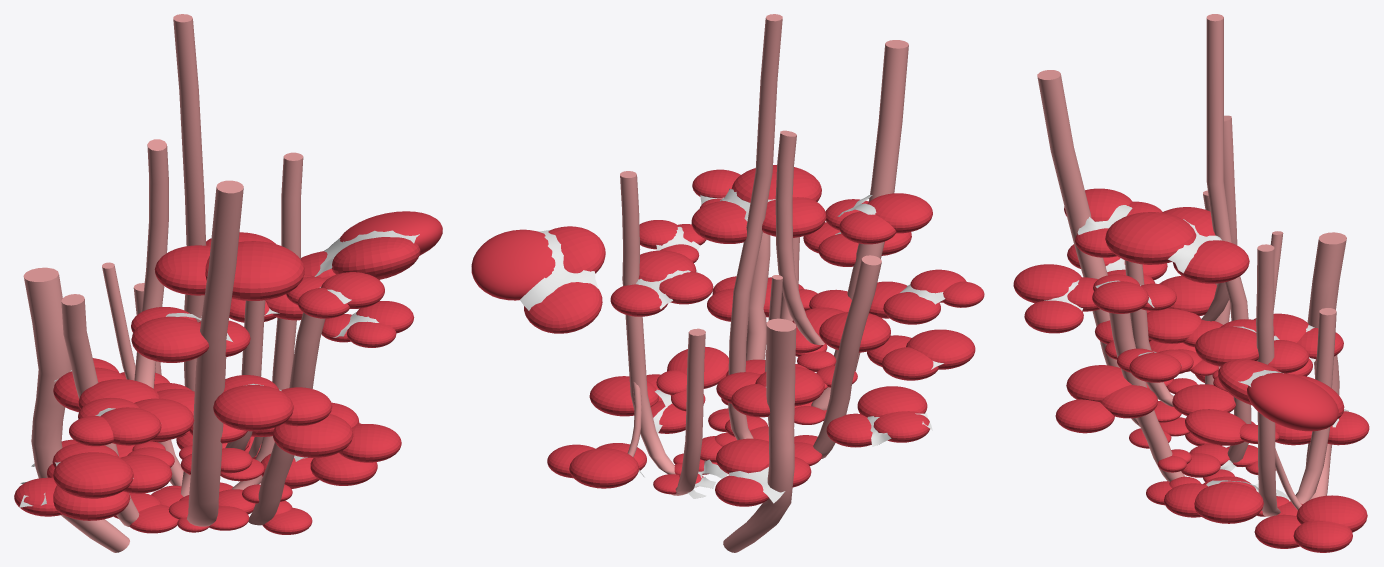
The model's file is 碰撞盒.FBX.
The picture shows the model from 3 angles, left to right: view 1: azimuth 30°, elevation 25°; view 2: azimuth 150°, elevation 25°; view 3: azimuth 270°, elevation 25°; orthographic projection. The views are drawn at different scales.
Visible parts, largest first — view 1: Sphere__24_, Cylinder003, Cylinder001, Cylinder005, Cylinder007, Cylinder010, Cylinder008, Cylinder002, Plane001, Cylinder011, Cylinder009, Cylinder006; view 2: Sphere__24_, Cylinder005, Cylinder001, Plane001, Cylinder003, Cylinder007, Cylinder002, Cylinder010, Cylinder006, Cylinder008; view 3: Sphere__24_, Cylinder005, Cylinder003, Cylinder007, Cylinder001, Cylinder006, Plane001, Cylinder008, Cylinder010, Cylinder011, Cylinder012, Cylinder009.
Boxes of the visible parts, x1,y1,x2,y2 form: Sphere__24_: [14, 211, 442, 534]; Cylinder003: [187, 180, 243, 526]; Cylinder001: [23, 267, 129, 552]; Cylinder005: [173, 14, 206, 496]; Cylinder007: [232, 152, 303, 489]; Cylinder010: [134, 139, 168, 388]; Cylinder008: [248, 312, 325, 525]; Cylinder002: [61, 294, 139, 526]; Plane001: [19, 230, 419, 507]; Cylinder011: [225, 300, 265, 450]; Cylinder009: [102, 262, 135, 380]; Cylinder006: [133, 283, 183, 486]; Sphere__24_: [471, 165, 984, 506]; Cylinder005: [728, 14, 782, 439]; Cylinder001: [723, 318, 796, 552]; Plane001: [520, 188, 945, 503]; Cylinder003: [811, 40, 908, 410]; Cylinder007: [620, 171, 675, 474]; Cylinder002: [813, 255, 881, 458]; Cylinder010: [775, 130, 824, 345]; Cylinder006: [671, 328, 705, 495]; Cylinder008: [746, 232, 770, 360]; Sphere__24_: [1013, 188, 1369, 552]; Cylinder005: [1206, 14, 1251, 462]; Cylinder003: [1037, 70, 1139, 426]; Cylinder007: [1256, 244, 1280, 516]; Cylinder001: [1305, 232, 1346, 499]; Cylinder006: [1290, 308, 1336, 503]; Plane001: [1044, 205, 1348, 501]; Cylinder008: [1109, 312, 1184, 481]; Cylinder010: [1201, 115, 1237, 321]; Cylinder011: [1124, 260, 1173, 406]; Cylinder012: [1275, 448, 1301, 510]; Cylinder009: [1270, 231, 1283, 309].
Size of the model in its own units: 1927 by 2223 by 1426.
